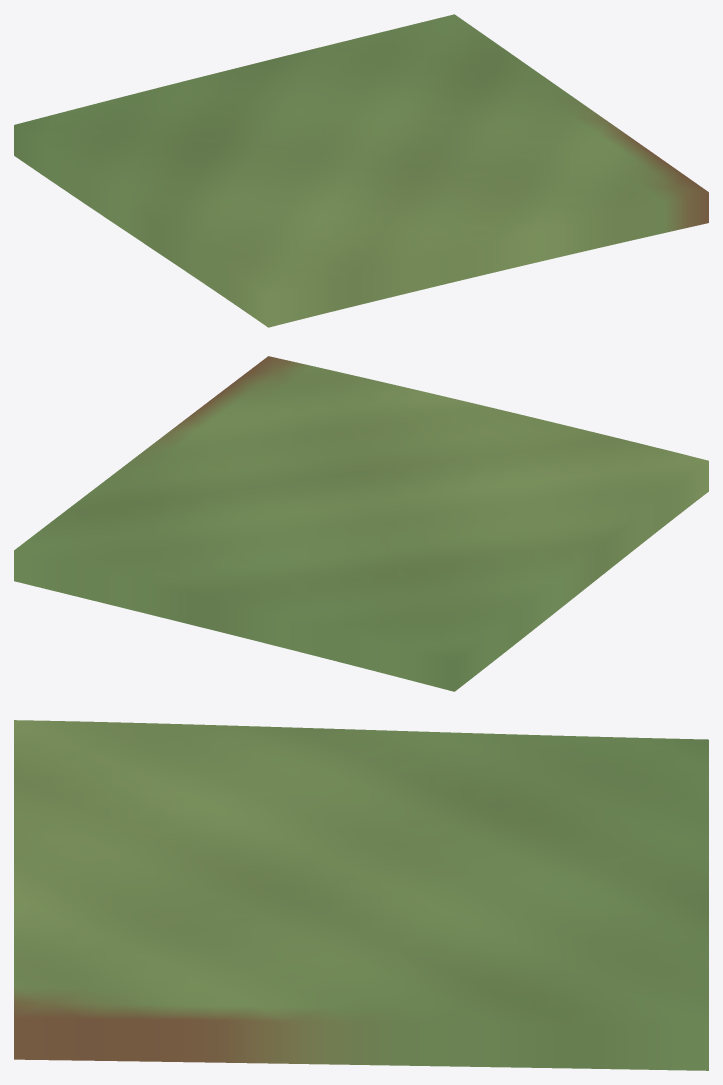
The picture shows the model from 3 angles, top to bottom: view 1: azimuth 30°, elevation 25°; view 2: azimuth 150°, elevation 25°; view 3: azimuth 270°, elevation 25°; orthographic projection. The views are drawn at different scales.
Parts seen in each view (by area): view 1: terrain; view 2: terrain; view 3: terrain.
Boxes of the visible parts, x1,y1,x2,y2 form: terrain: (14, 14, 708, 327); terrain: (14, 356, 708, 691); terrain: (14, 720, 708, 1070).
Bounding box in the file's own units: 30 × 2.95 × 30.
